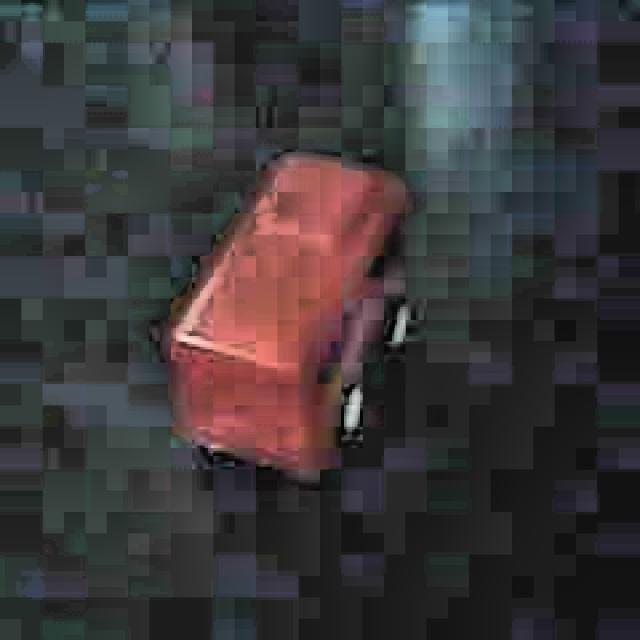bus: (162, 146, 414, 490)
